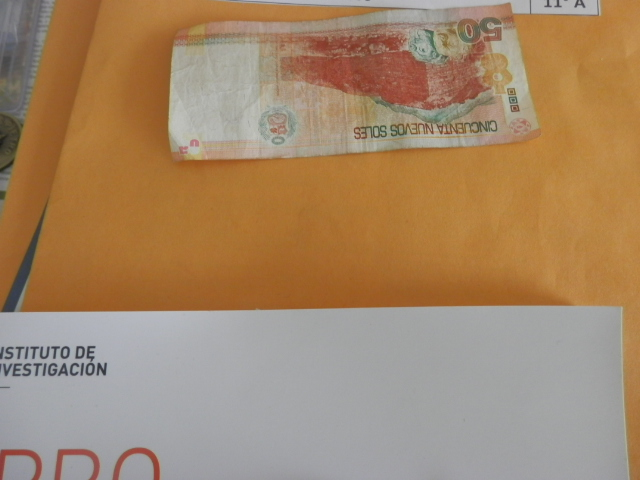B50: (171, 18, 539, 161)
